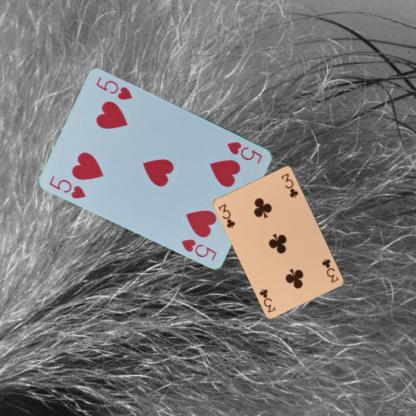3c: (216, 201, 237, 229), (320, 256, 340, 284)
5h: (47, 173, 88, 200), (224, 138, 264, 164)
